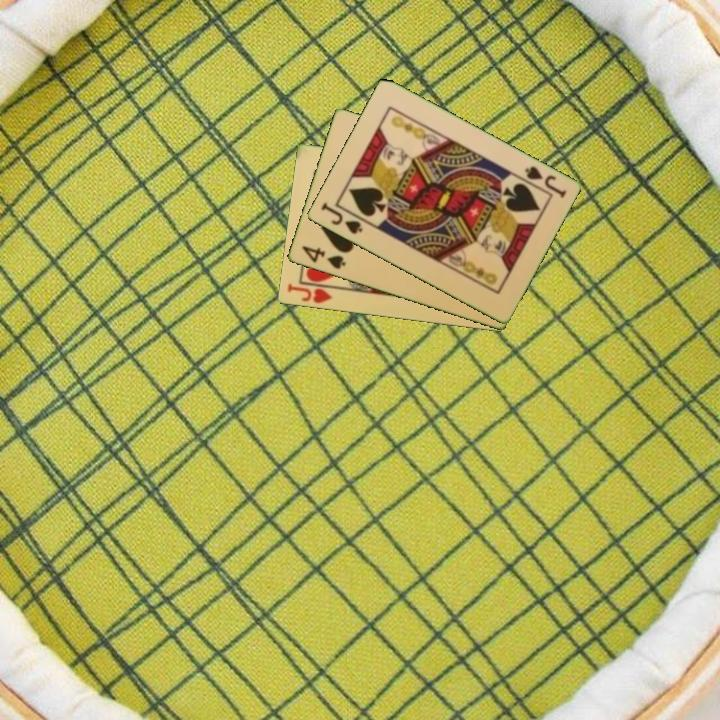4s: (298, 242, 349, 272)
Jh: (284, 280, 335, 306)
Js: (521, 162, 569, 201), (317, 199, 365, 237)
